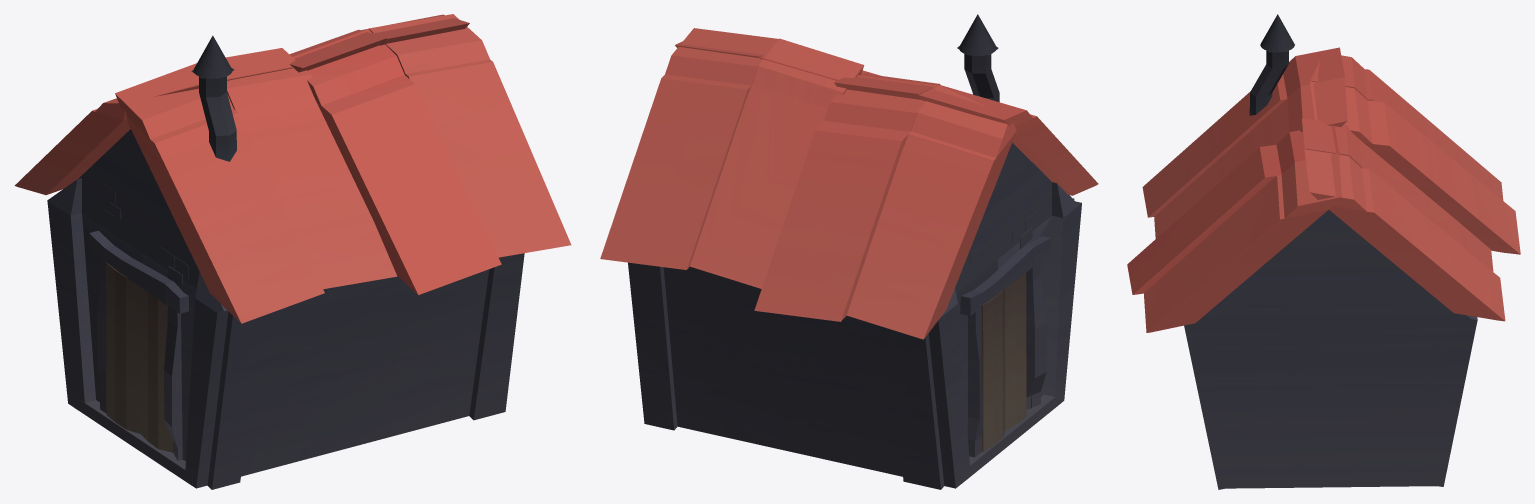
File: SM_VillageHouse_c.fbx
3 views of the same model, side by side, from view 1: azimuth 30°, elevation 25°; view 2: azimuth 150°, elevation 25°; view 3: azimuth 270°, elevation 25° (orthographic). The views are drawn at different scales.
Visible parts, largest first — view 1: Cube.010; view 2: Cube.010; view 3: Cube.010.
Part boxes in pixels (left/top/right/bottom): Cube.010: left=14, top=14, right=571, bottom=489; Cube.010: left=600, top=14, right=1098, bottom=489; Cube.010: left=1127, top=14, right=1520, bottom=489.
Bounding box in the file's own units: 416 × 466 × 454.
Materials: 1 (1 with a texture image).
